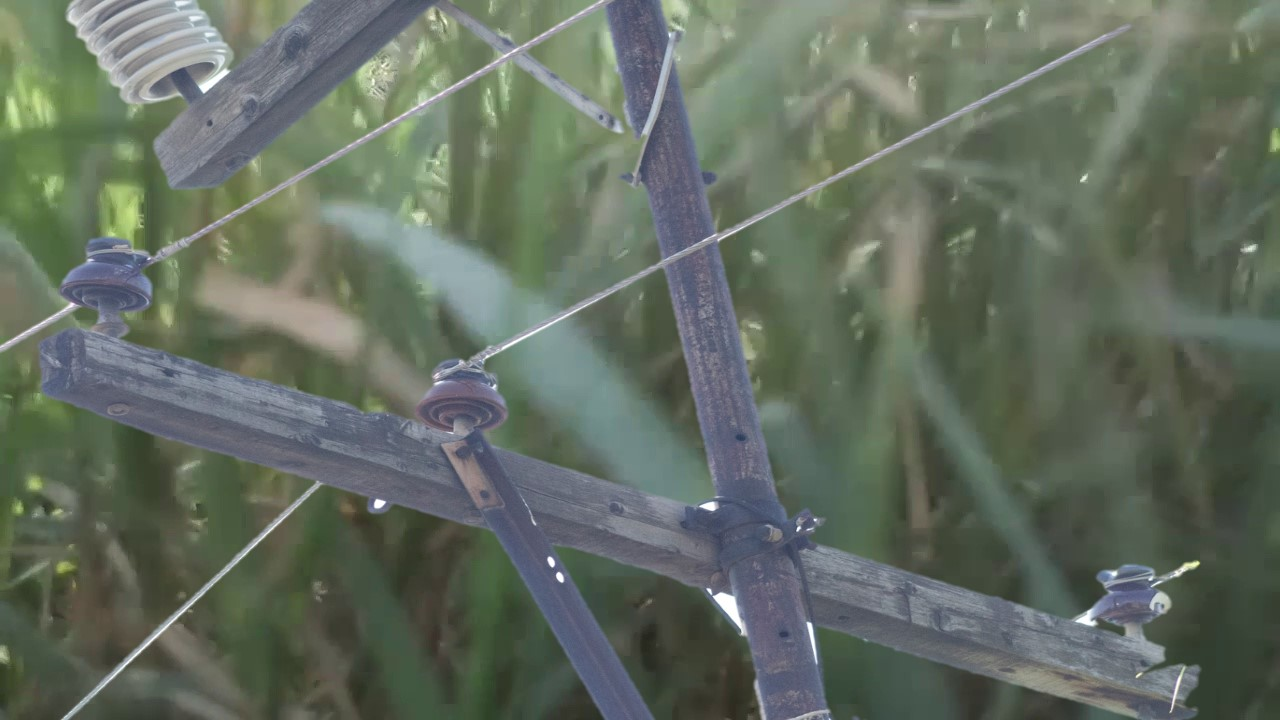defect_pin: (1089, 557, 1175, 632)
insulator_pin: (60, 232, 157, 319), (416, 358, 509, 437)
